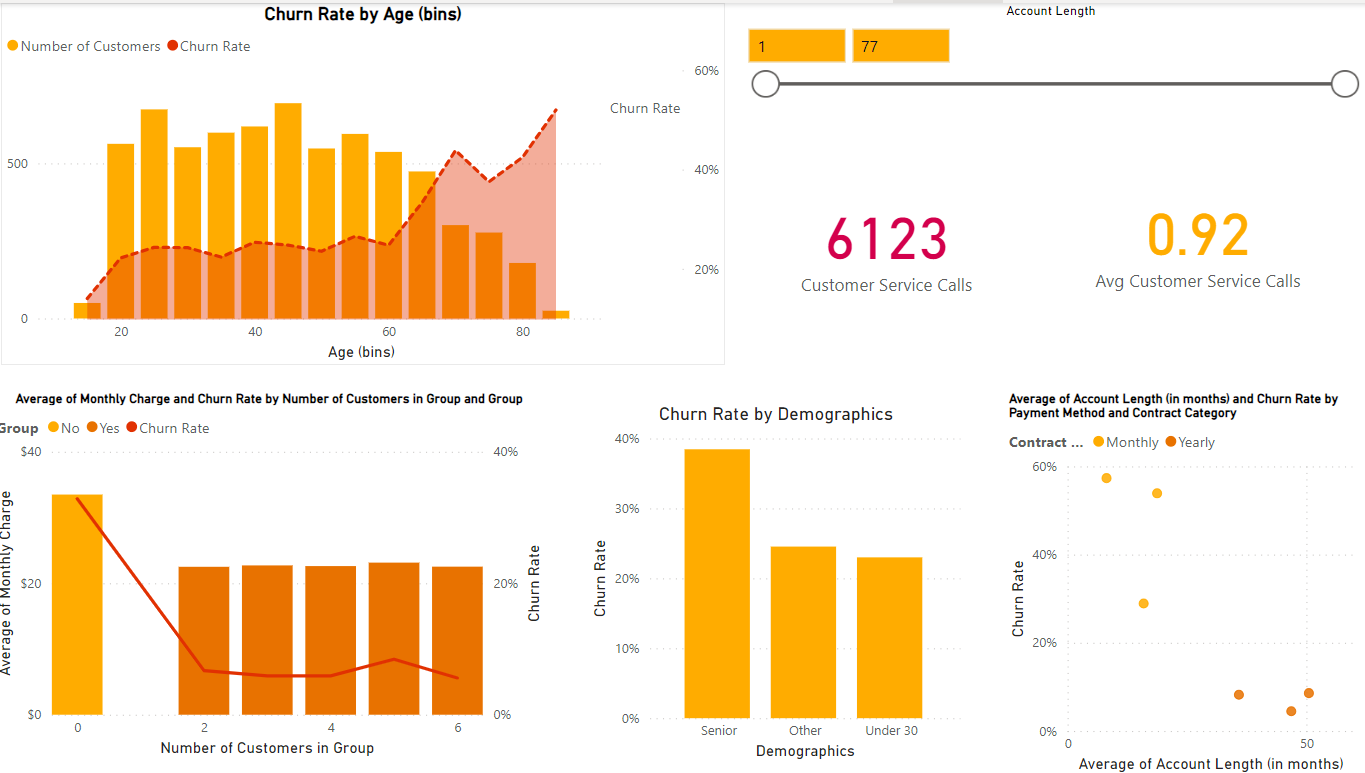

This screenshot's page, from the dashboard's own definition file:
{"tool":"powerbi","page":{"name":"Age Groups","canvas":[1280,720],"ordinal":1},"visuals":[{"type":"lineStackedColumnComboChart","title":" Churn Rate by Age (bins)","fields":{"Category":["Databel - Data.Age (bins)"],"Y":["Databel - Data.Number of Customers"],"Y2":["Databel - Data.Churn Rate"]},"box":[9.3,0,673.1,337.1],"z":0},{"type":"lineStackedColumnComboChart","fields":{"Category":["Databel - Data.Number of Customers in Group"],"Y":["Avg(Databel - Data.Monthly Charge)"],"Y2":["Databel - Data.Churn Rate"],"Series":["Databel - Data.Group"]},"box":[0,360.4,517.3,345.3],"z":1000},{"type":"slicer","title":"Account Length","fields":{"Values":["Databel - Data.Account Length (in months)"]},"box":[691.7,0,588.3,102.3],"z":2000},{"type":"card","fields":{"Values":["Sum(Databel - Data.Customer Service Calls)"]},"box":[702.4,168.7,262,109.8],"z":3000},{"type":"card","fields":{"Values":["Databel - Data.Avg Customer Service Calls"]},"box":[991.9,160.5,262,118],"z":4000},{"type":"scatterChart","fields":{"Category":["Databel - Data.Payment Method"],"X":["Avg(Databel - Data.Account Length (in months))"],"Y":["Databel - Data.Churn Rate"],"Series":["Databel - Data.Contract Category"]},"box":[941.7,360.4,338.3,360.4],"z":5000},{"type":"columnChart","fields":{"Category":["Databel - Data.Demographics"],"Y":["Databel - Data.Churn Rate"]},"box":[553.4,372,353.4,337.1],"z":5001}]}

Visuals, with their boxes in screenshot pixels (x1, y1, x2, y2), scaled from the page's 1280x720 canvas onto the 1365x773 screenshot:
" Churn Rate by Age (bins)" lineStackedColumnComboChart: [10, 0, 728, 362]
lineStackedColumnComboChart - Databel - Data.Number of Customers in Group x Avg(Databel - Data.Monthly Charge): [0, 387, 552, 758]
"Account Length" slicer: [738, 0, 1364, 110]
card - Sum(Databel - Data.Customer Service Calls): [749, 181, 1028, 299]
card - Databel - Data.Avg Customer Service Calls: [1058, 172, 1337, 299]
scatterChart - Databel - Data.Payment Method x Avg(Databel - Data.Account Length (in months)): [1004, 387, 1364, 772]
columnChart - Databel - Data.Demographics x Databel - Data.Churn Rate: [590, 399, 967, 761]
